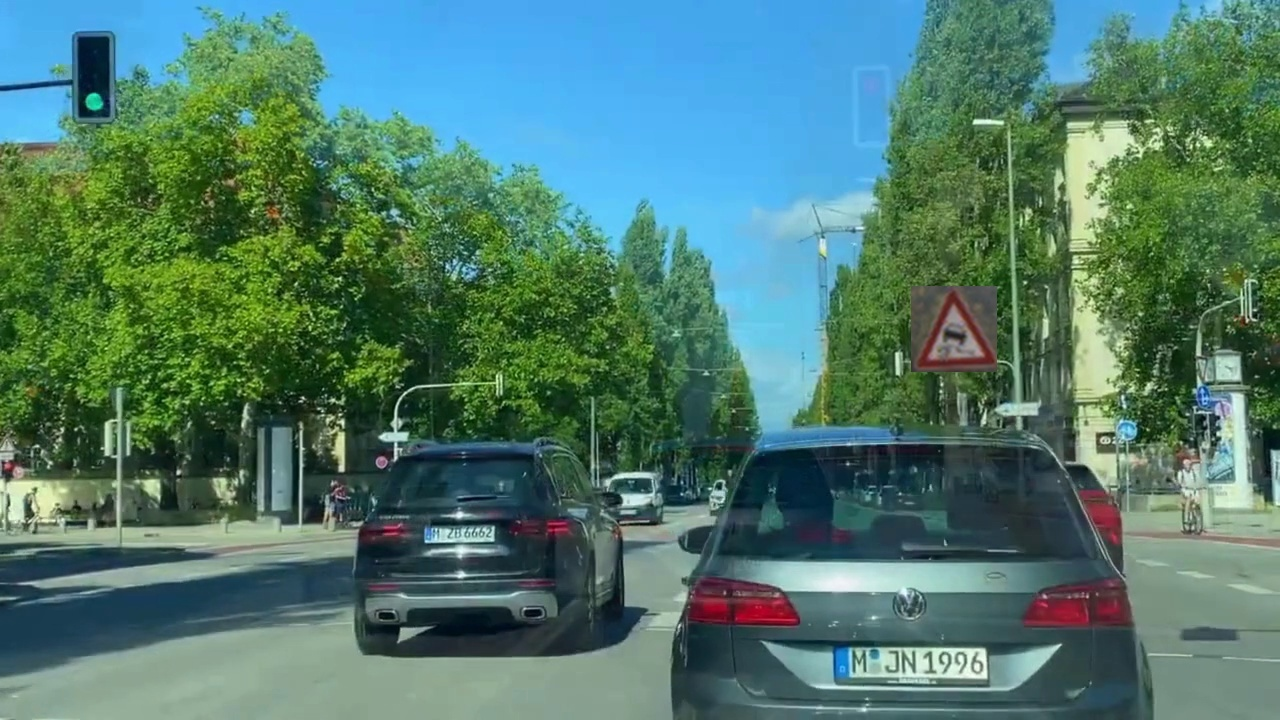Slippery: (911, 286, 997, 372)
